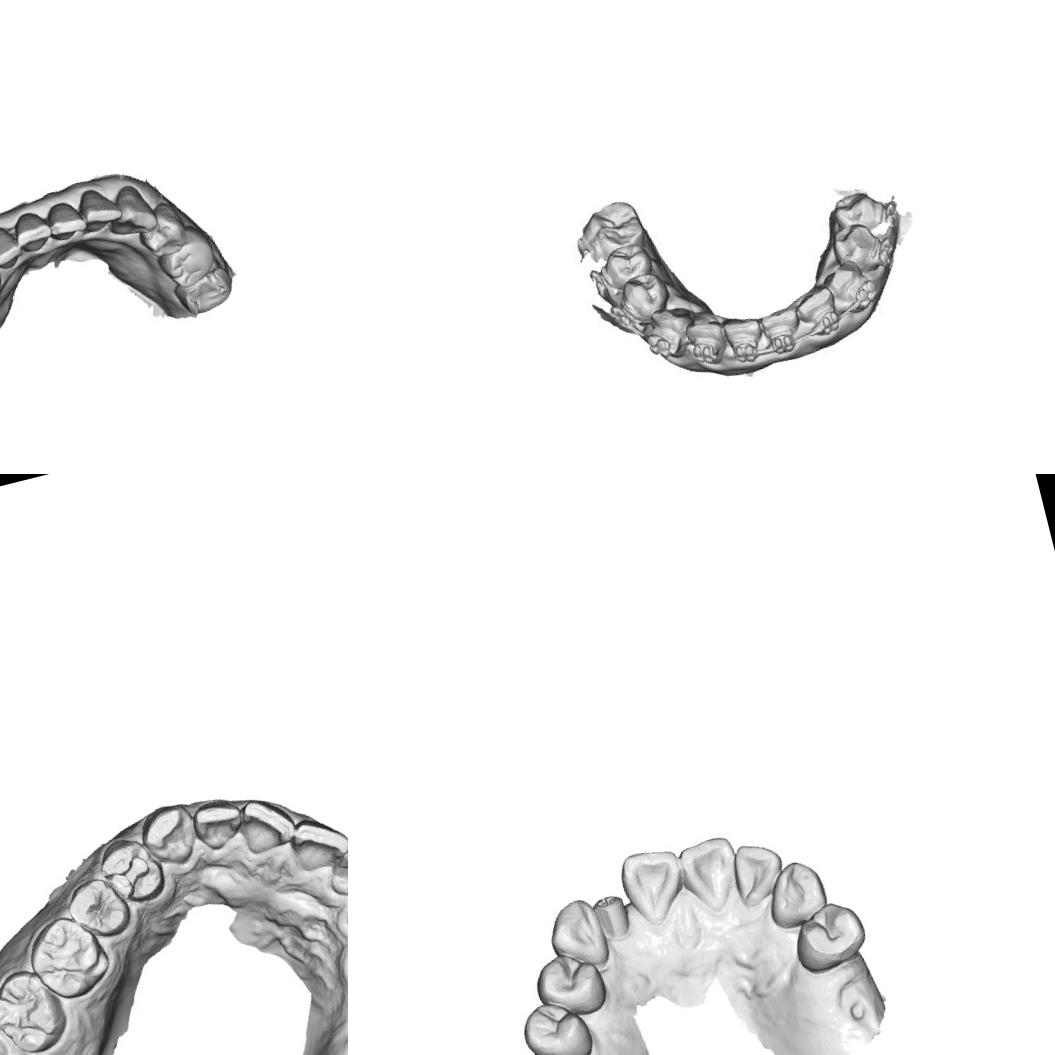canine: (758, 854, 834, 931), (542, 894, 613, 973), (132, 799, 203, 870), (102, 180, 158, 240), (652, 302, 698, 342), (825, 260, 864, 299)
implant: (592, 890, 632, 939)
incisor: (614, 842, 693, 928), (672, 832, 746, 912), (230, 790, 301, 858), (723, 836, 791, 906), (285, 810, 348, 875), (186, 792, 249, 856), (72, 181, 126, 235), (8, 207, 54, 256), (43, 196, 89, 244), (321, 842, 348, 904), (795, 284, 836, 320), (757, 306, 797, 342), (0, 220, 25, 274), (723, 314, 761, 345), (686, 315, 722, 344)
inlay: (96, 846, 156, 906)
molar: (18, 908, 116, 1008), (0, 959, 74, 1055), (150, 220, 220, 294), (170, 260, 238, 320), (585, 193, 647, 253)
premolar: (785, 894, 872, 978), (528, 943, 610, 1024), (59, 870, 135, 946), (512, 988, 594, 1055), (130, 198, 192, 262), (826, 219, 880, 269), (831, 185, 885, 233), (606, 241, 656, 287), (618, 274, 668, 320)
